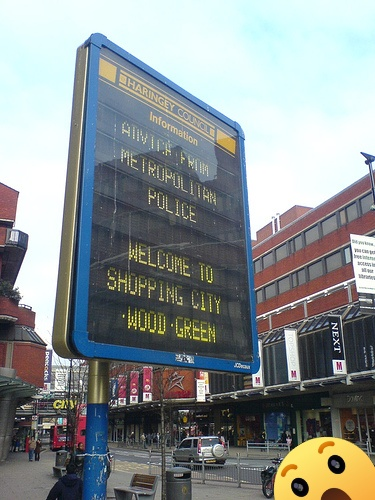wow: (274, 437, 375, 500)
